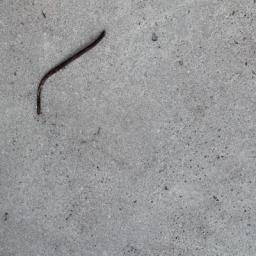FOD: (36, 30, 110, 117)
